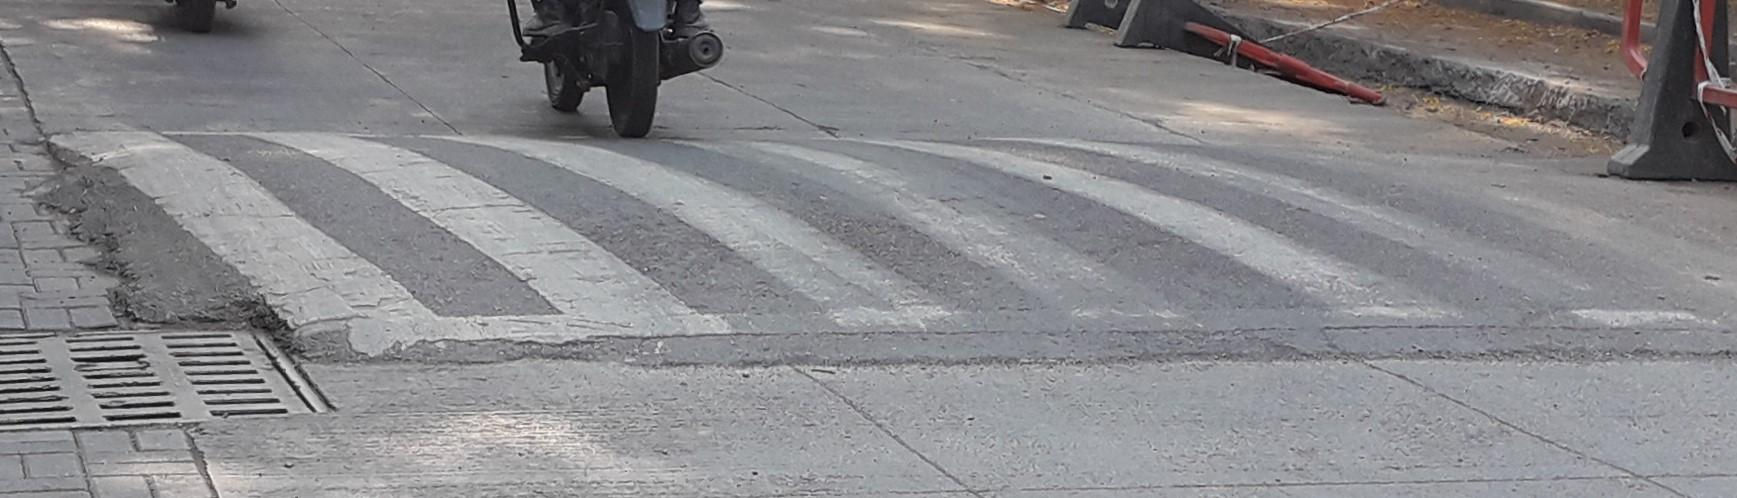speed-bump: (56, 124, 1736, 358)
